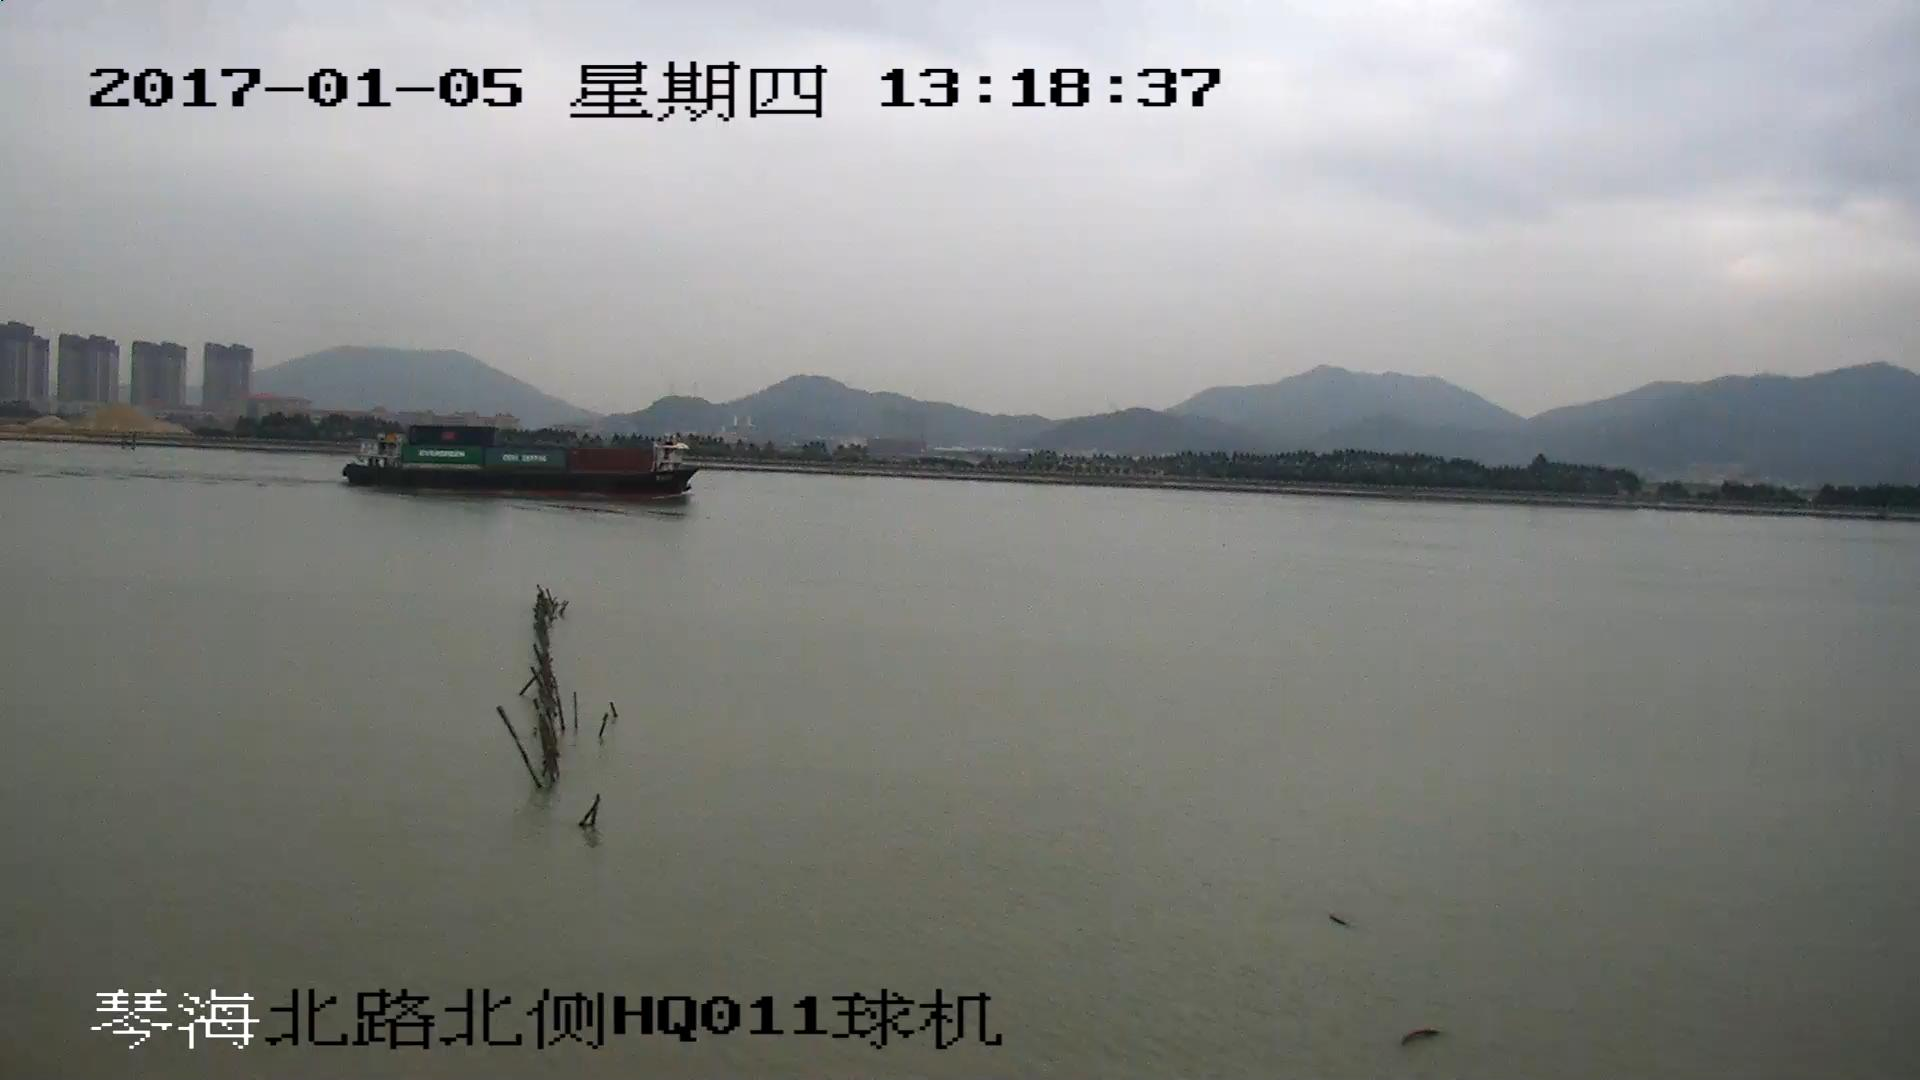container ship: (340, 426, 701, 498)
